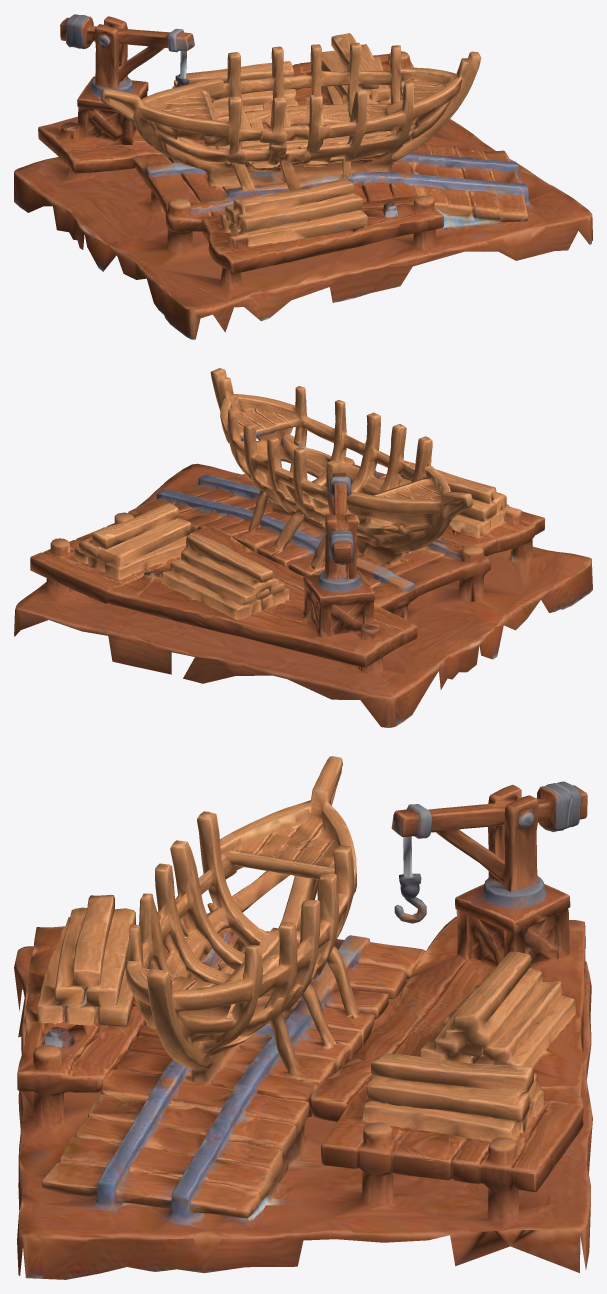
Rendered from m_shipyard_animated.glb.
3 renders of one model, top to bottom at view 1: azimuth 30°, elevation 25°; view 2: azimuth 150°, elevation 25°; view 3: azimuth 270°, elevation 25°, orthographic. The views are drawn at different scales.
Visible parts, largest first — view 1: m_shipyard_Living_Scenery; view 2: m_shipyard_Living_Scenery; view 3: m_shipyard_Living_Scenery.
Part boxes in pixels (left/top/right/bottom): m_shipyard_Living_Scenery: left=14, top=14, right=592, bottom=339; m_shipyard_Living_Scenery: left=14, top=368, right=592, bottom=727; m_shipyard_Living_Scenery: left=14, top=756, right=592, bottom=1279.
Size of the model in its own units: 0.9709 by 0.422 by 0.8167.
Materials: 1 (1 with a texture image).
